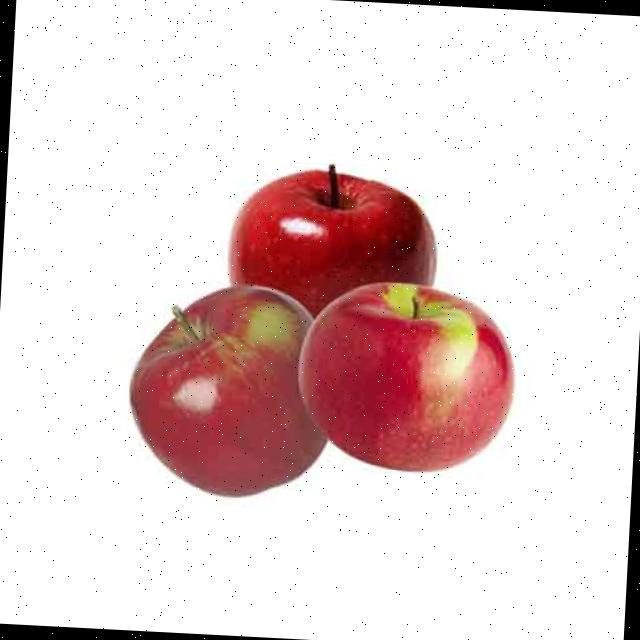Apel: (123, 277, 334, 502), (292, 276, 519, 478), (224, 156, 440, 324)
